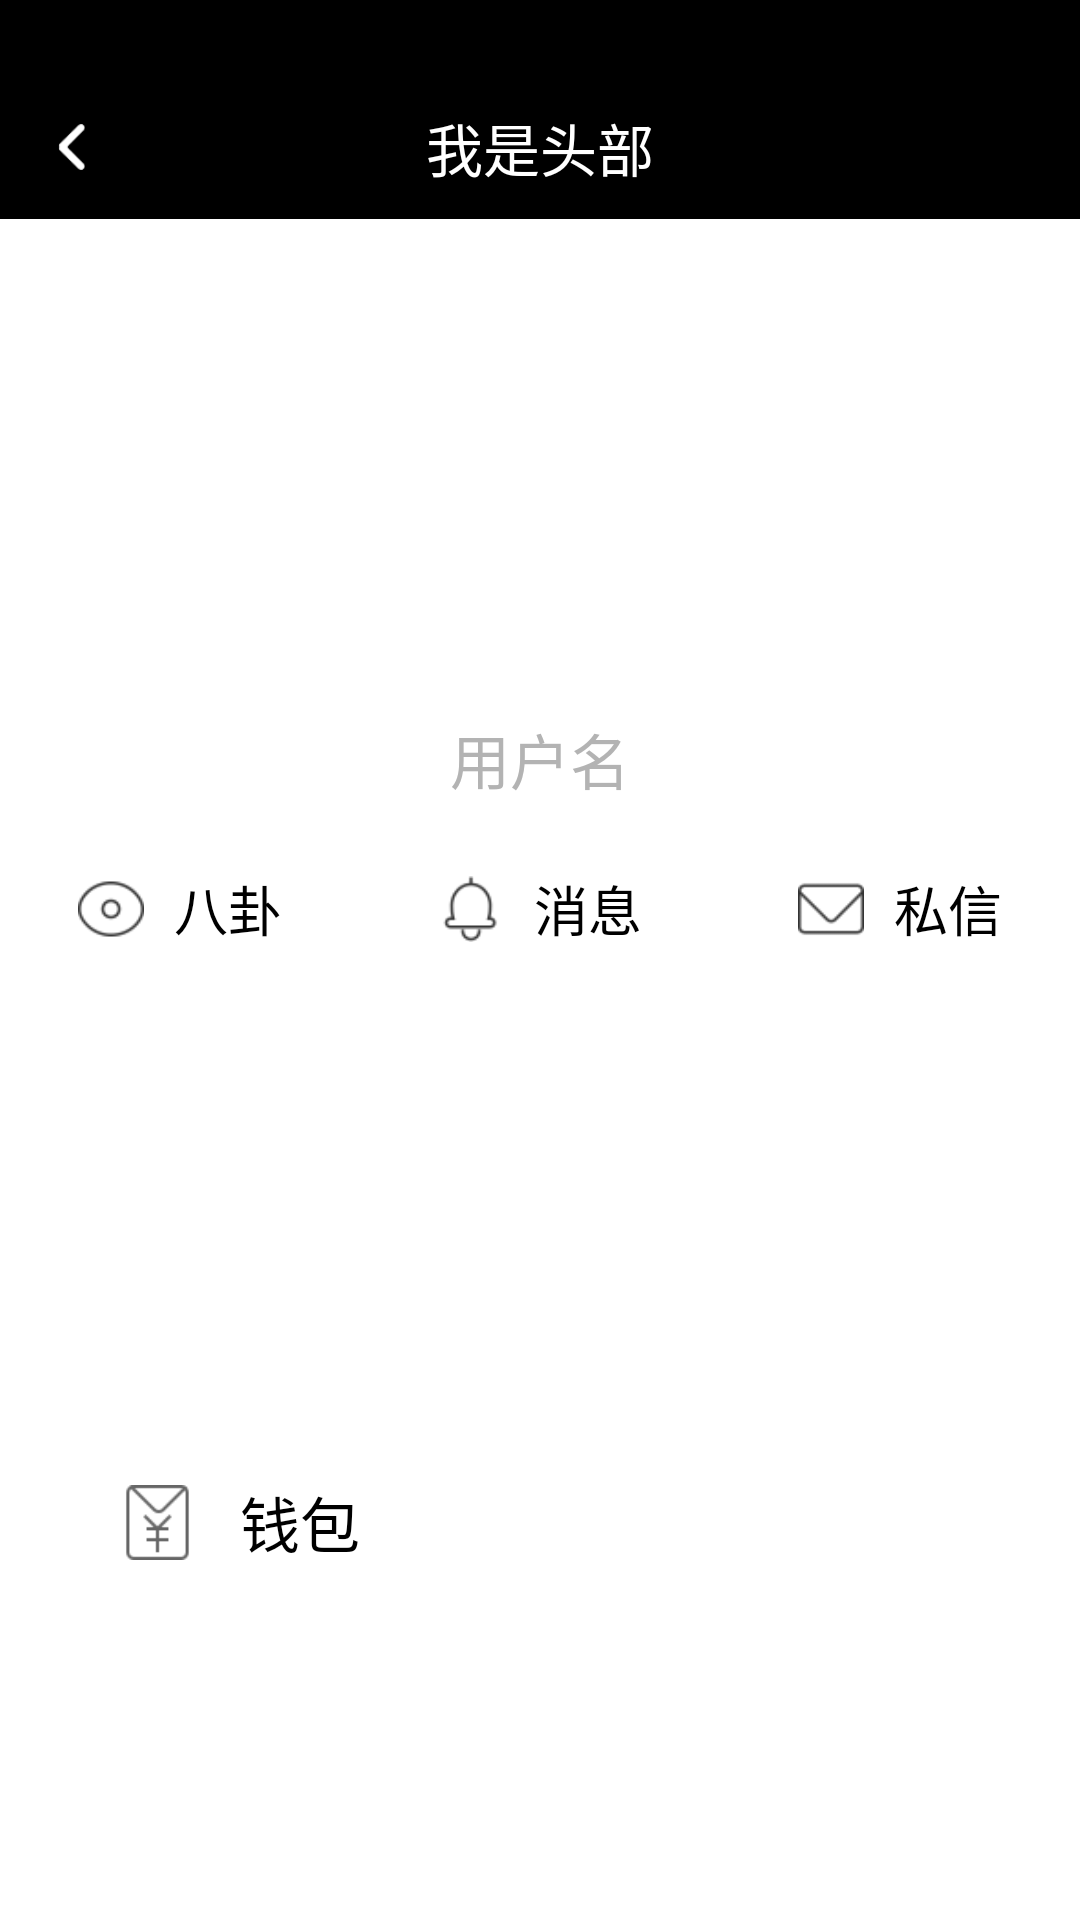

Locate icon controls on the screen. Image size 1080px×1920px, boxes as (x1,y1,x2,y2).
title back: (59,124,85,170)
